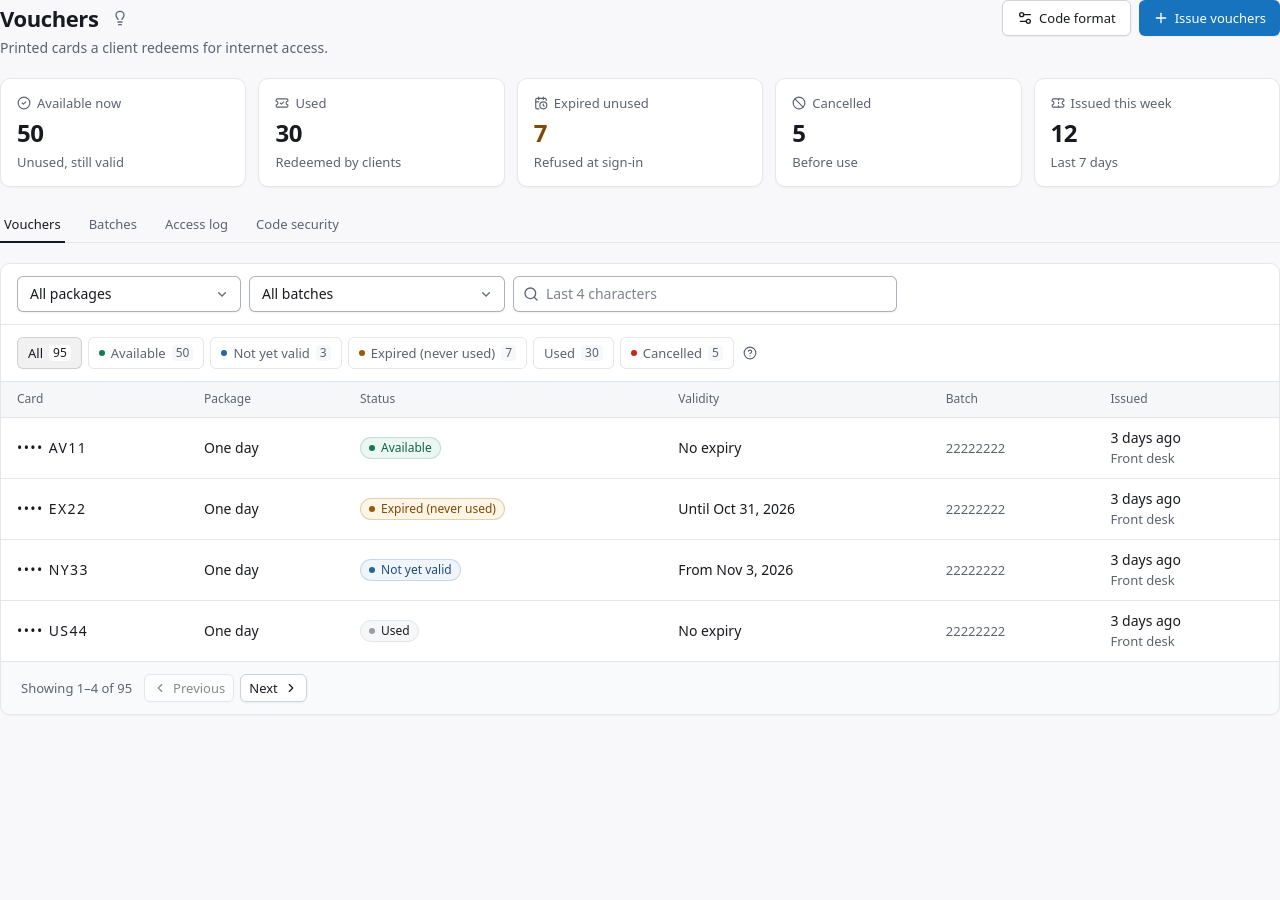
Test: step-up dialogs are real modals › refuses a too-short reason before sending anything
Click the text "•••• AV11" at (94, 448), box x1=1 y1=418 x2=188 y2=479
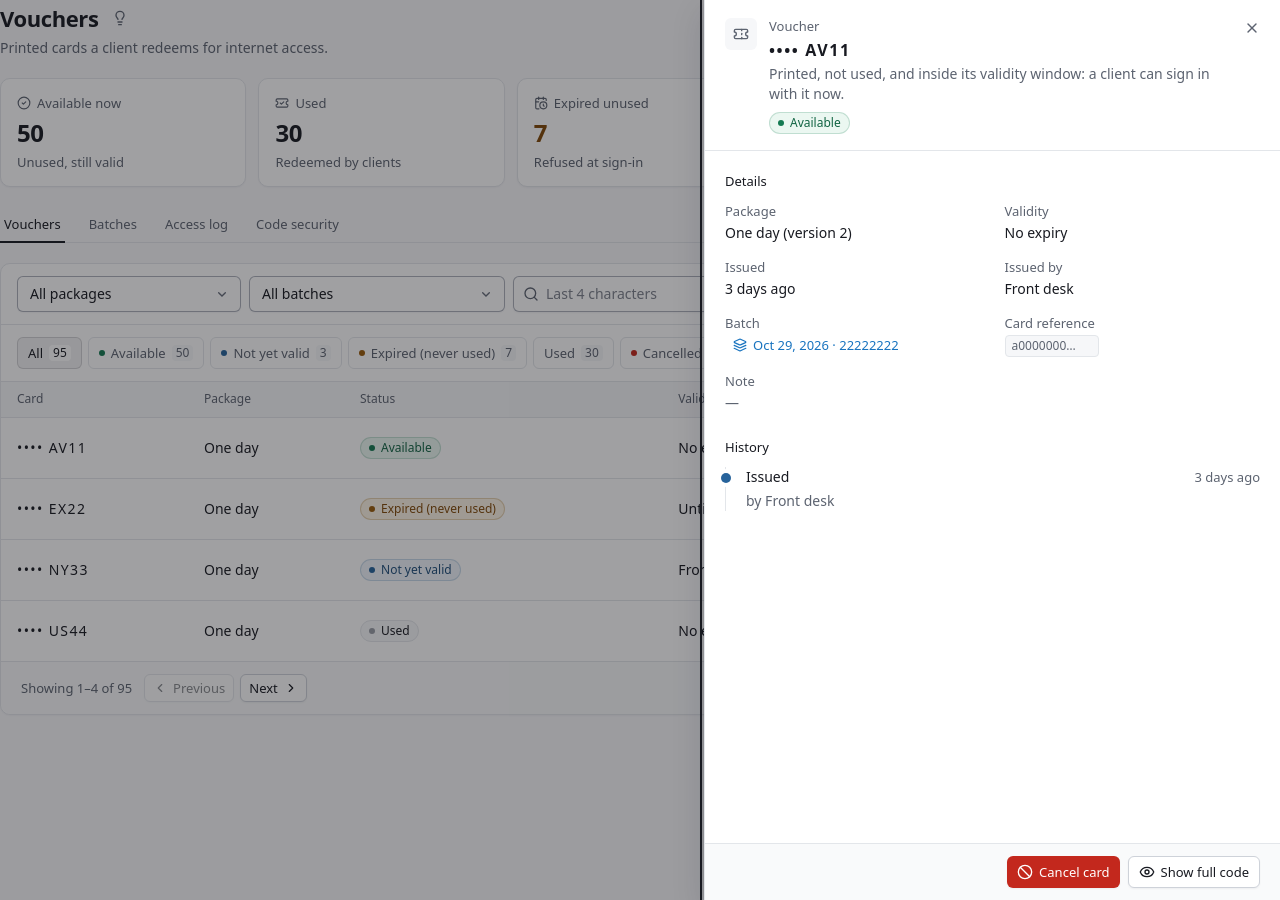
Click the button "Show full code" at (1194, 872), box x1=1128 y1=856 x2=1260 y2=888
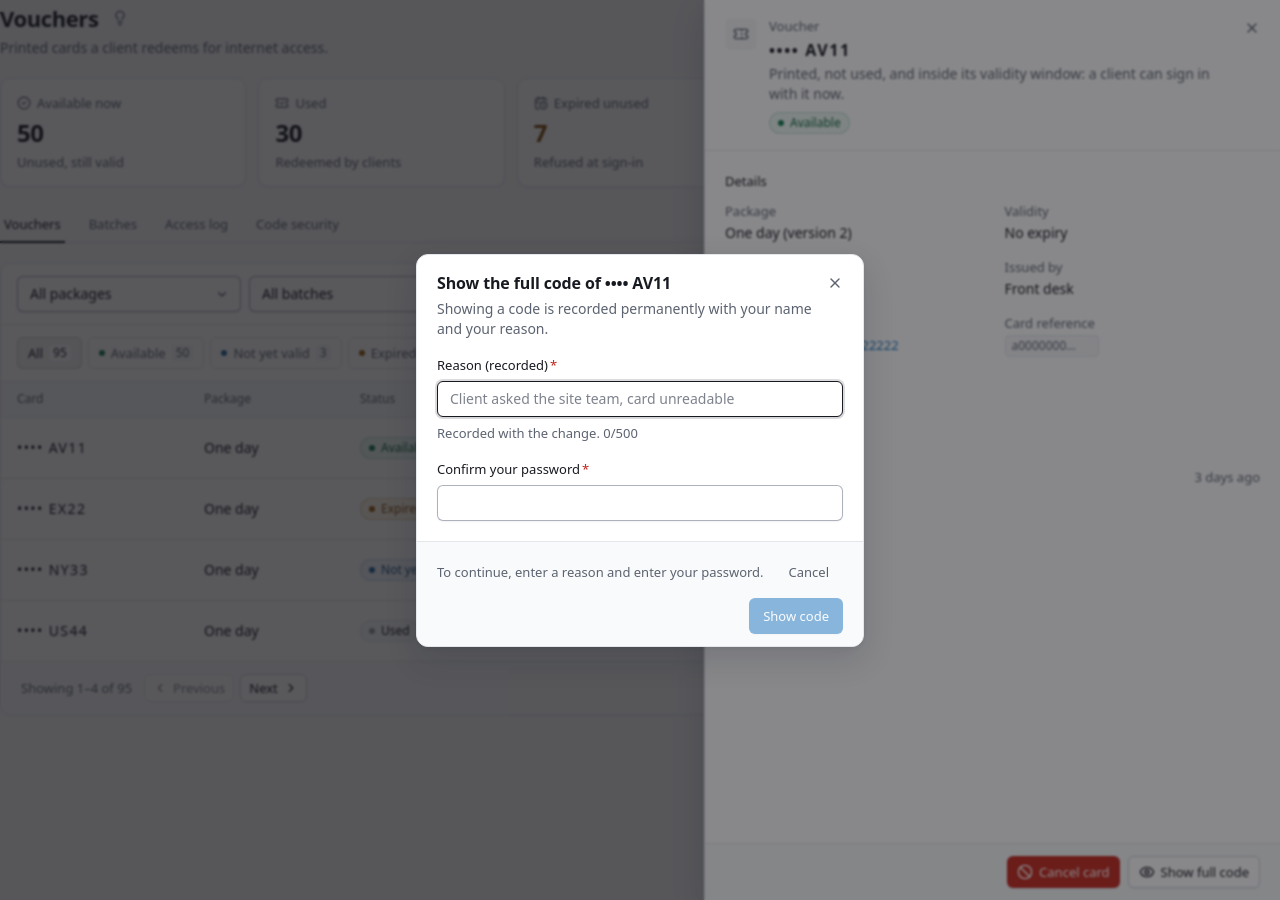
Type "no" into the field labelled "Reason (recorded)*" at (640, 398), box x1=437 y1=380 x2=843 y2=416
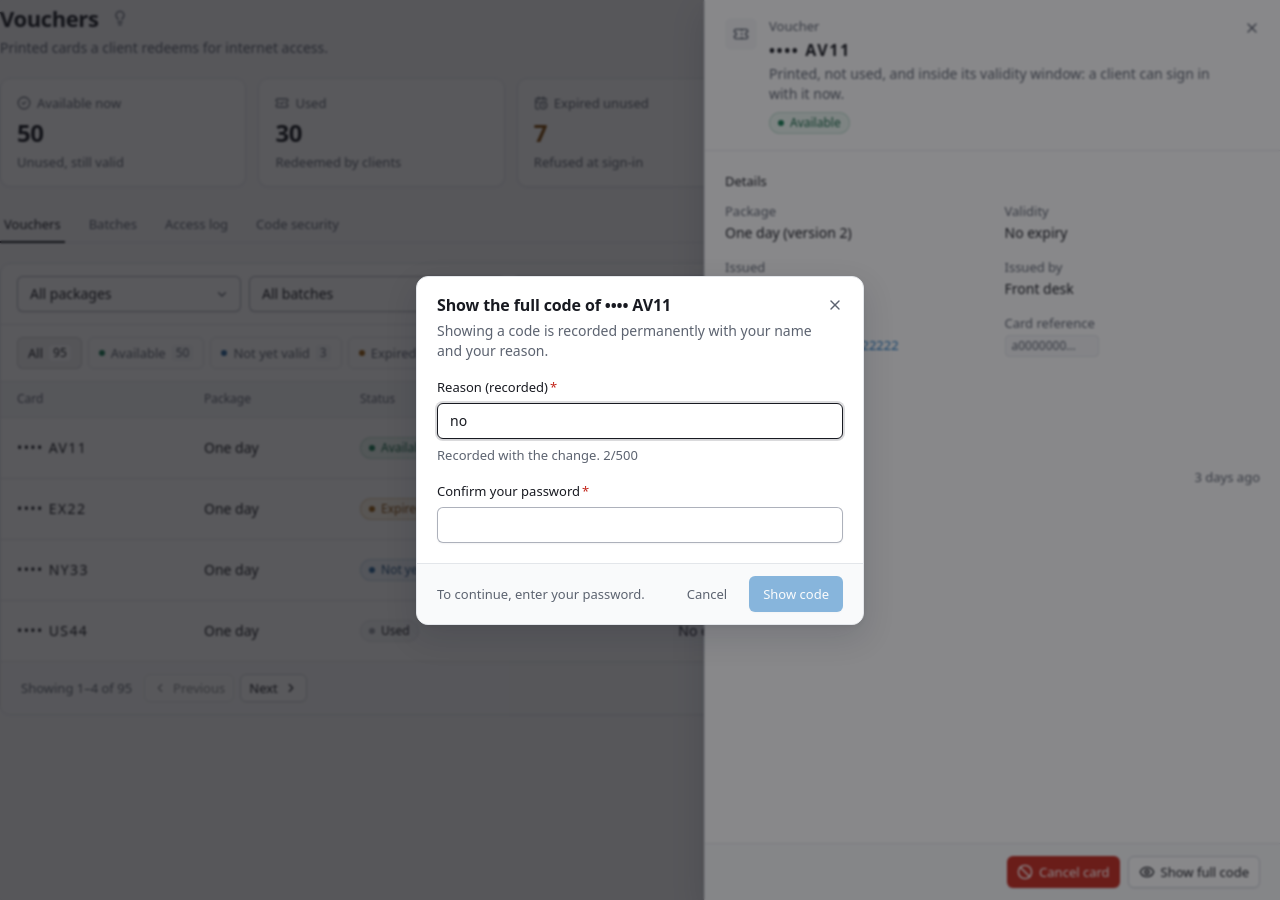
Type "pw" into the password field labelled "Confirm your password*" at (640, 524), box x1=437 y1=506 x2=843 y2=542
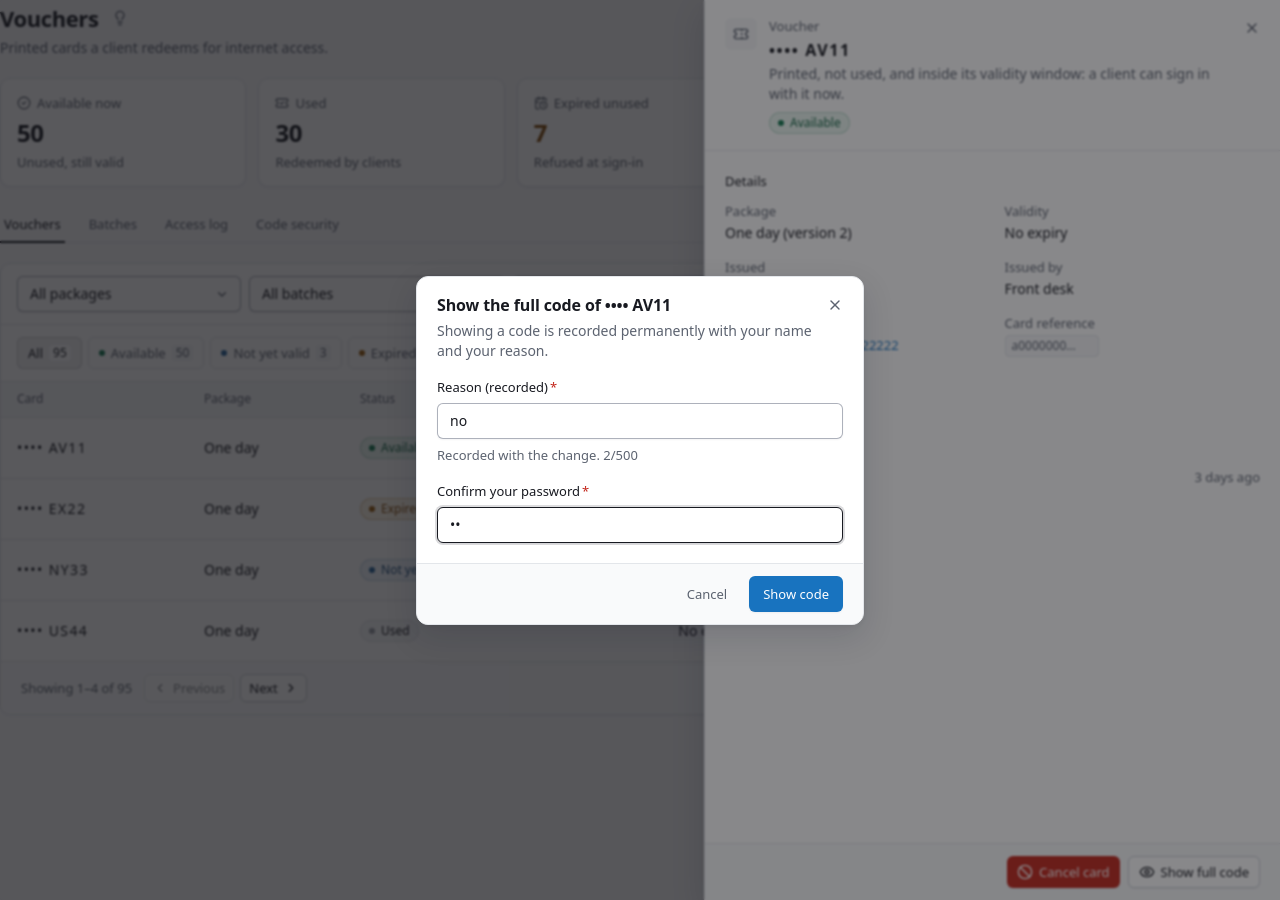
Click the button "Show code" at (796, 594), box x1=749 y1=576 x2=843 y2=612
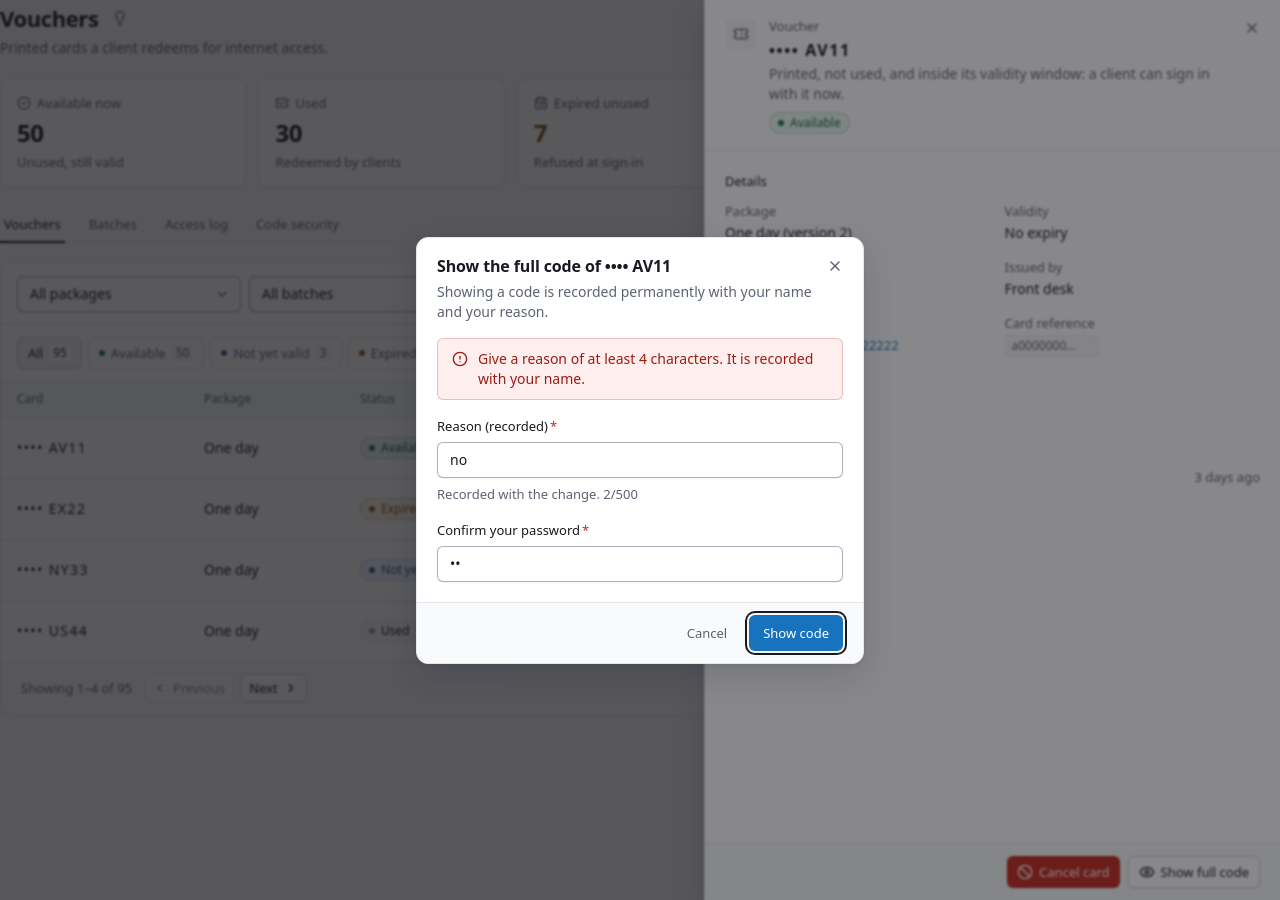
Result: the text "at least 4 characters" is shown at x1=478 y1=348 x2=813 y2=388
